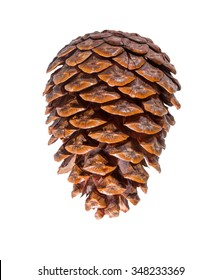Pc: (37, 28, 181, 219)
